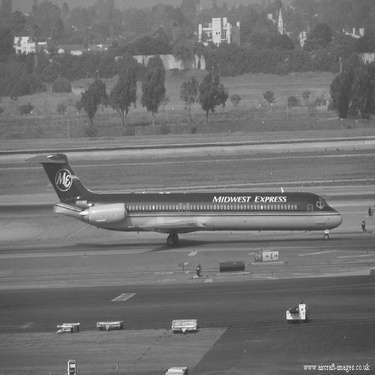airplane: (21, 139, 348, 250)
